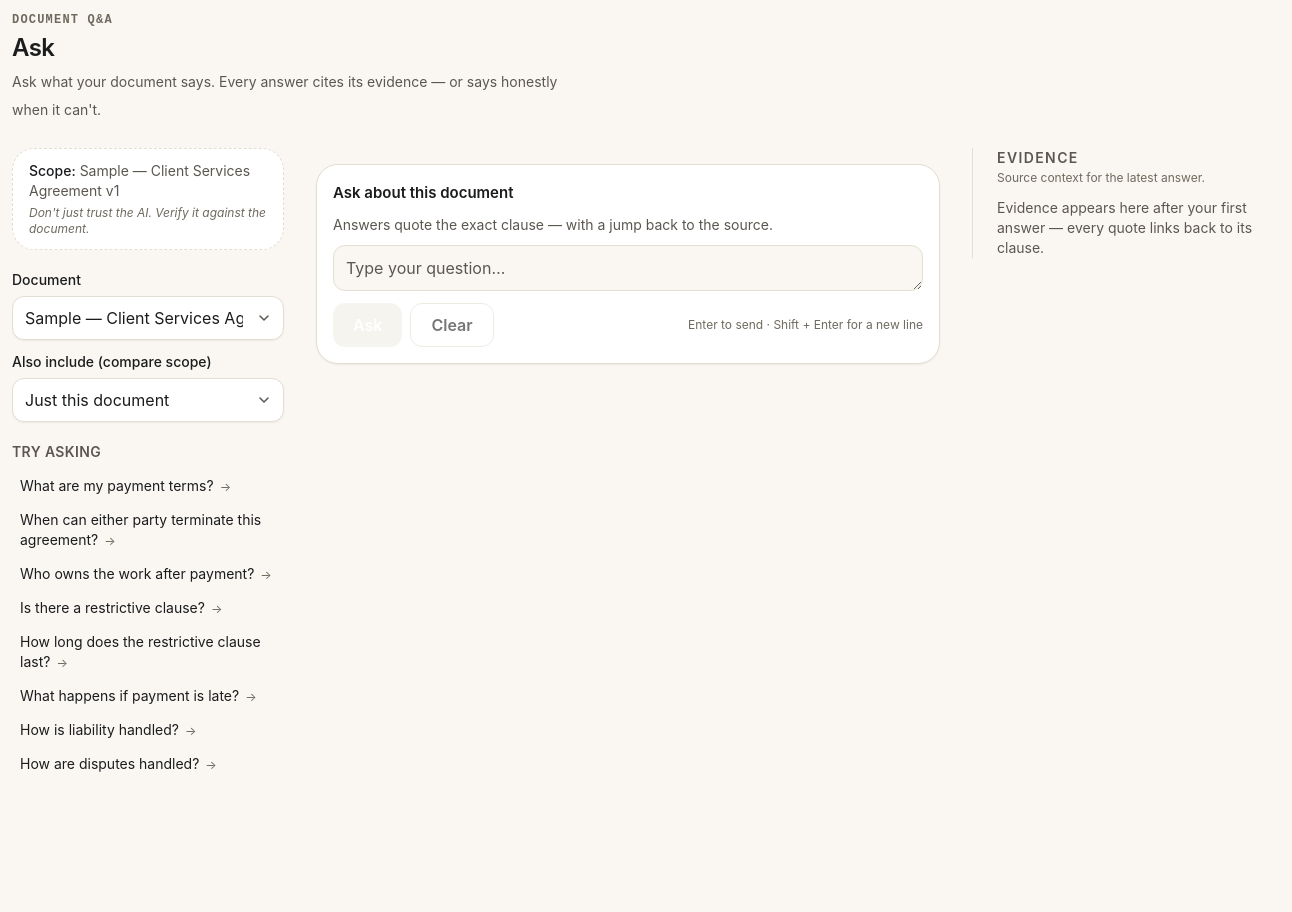
Test: AskWorkspace › answers with evidence blocks and source jumps
Expected: the text "Try asking" is shown, [12,443,101,460]
Type "What are my payment terms?" into the text box labelled "Ask about this document" at (628, 268), box [333,245,923,291]
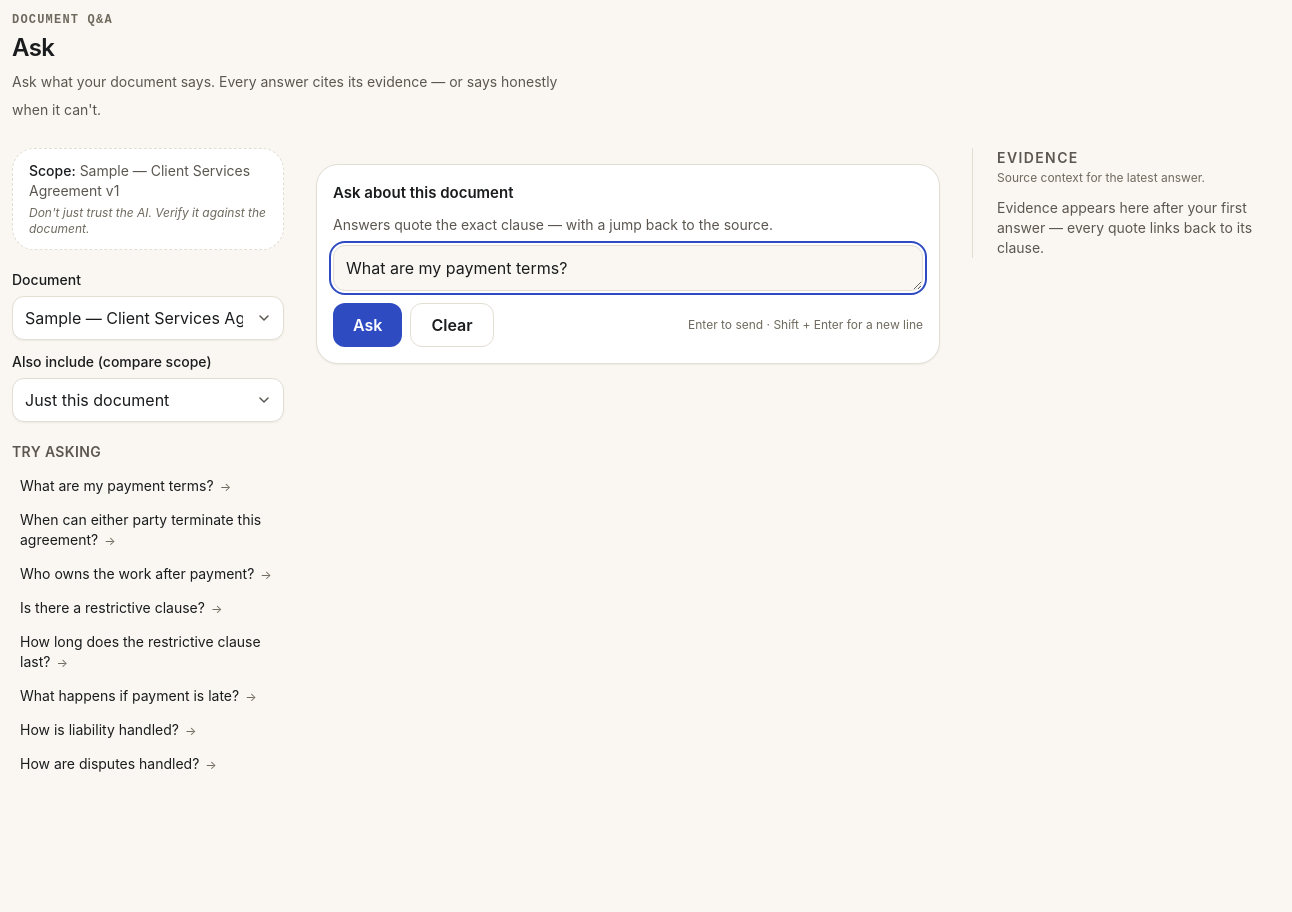
Click the button "Ask" at (368, 325), box [333,303,402,347]
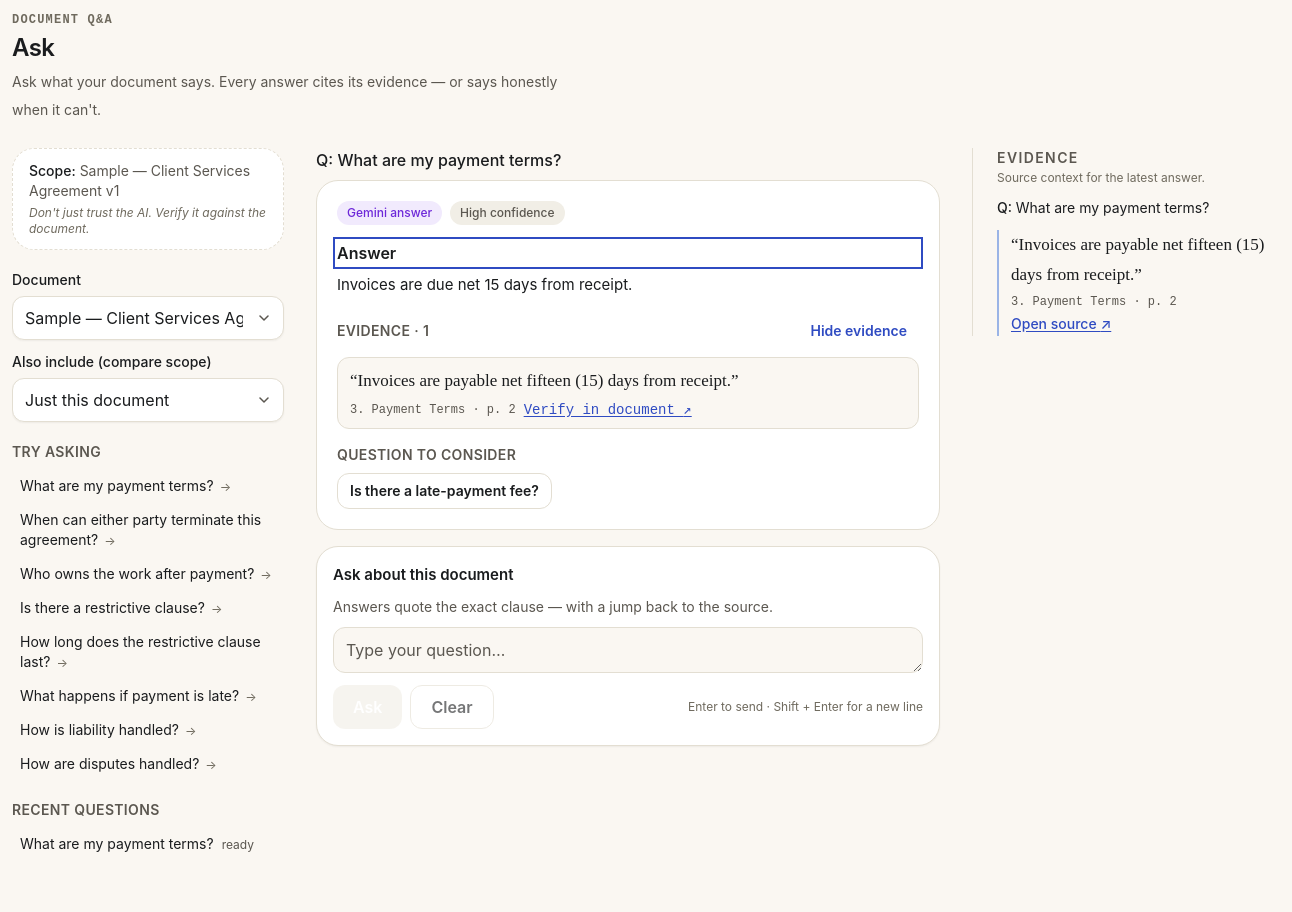
Expected: the heading "Answer" is shown, [337,243,396,263]
Expected: the text "Invoices are due net 15 days from receipt." is shown, [337,275,632,294]
Click the button "Is there a late-payment fee?" at (444, 491), box [337,473,552,509]
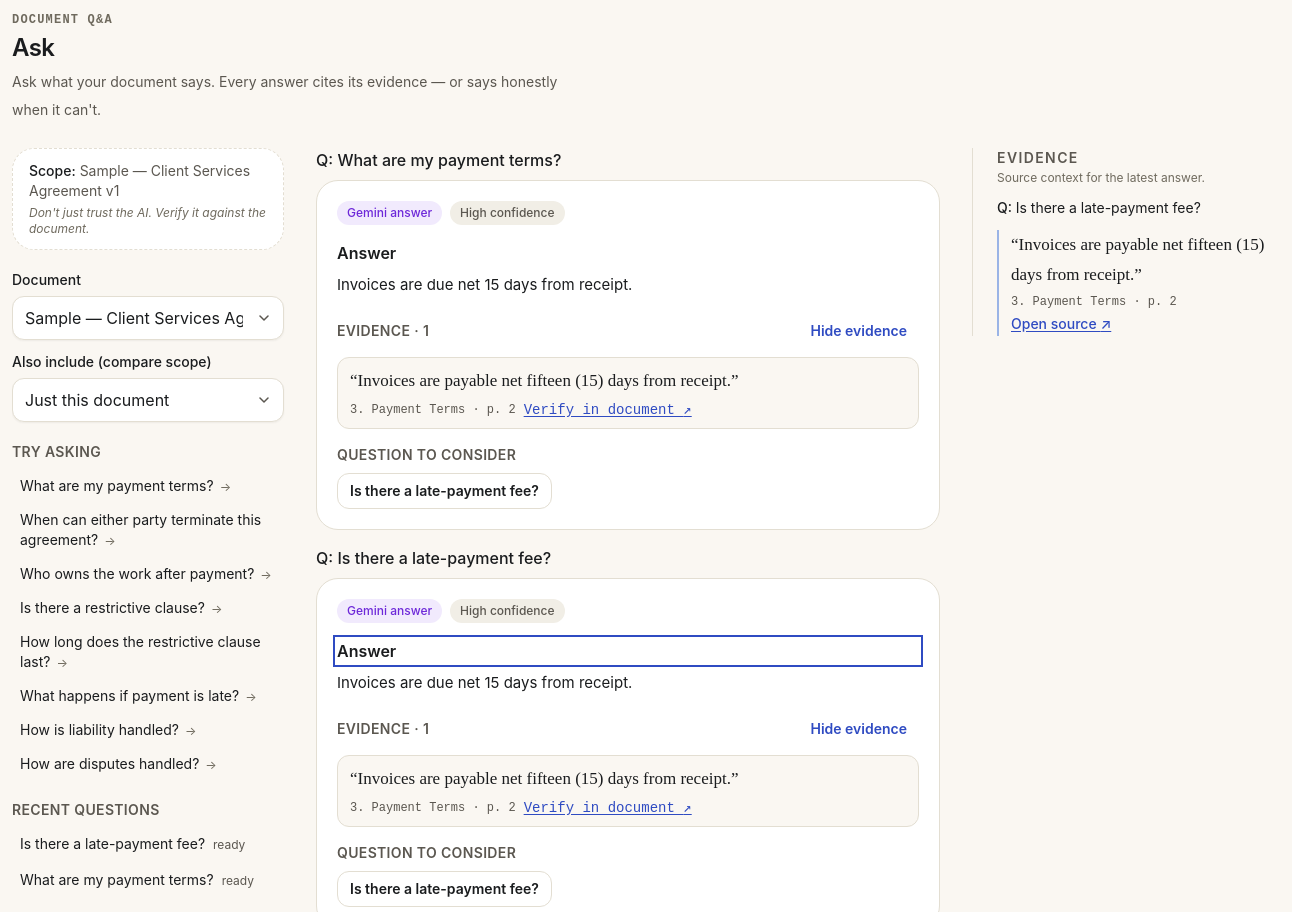
Expected: the number of headings "Answer" is 2, [337,243,396,263]; [337,641,396,661]
